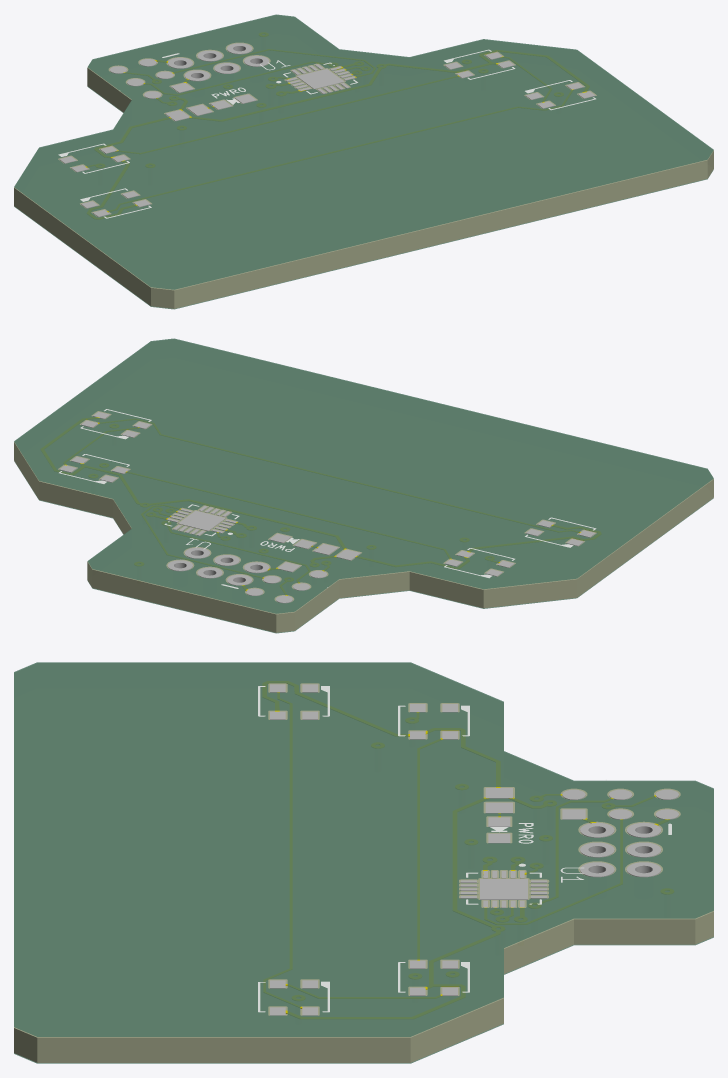
The model's file is dc29-makeithackin-badge.glb.
3 views of the same model, one above another, from view 1: azimuth 30°, elevation 25°; view 2: azimuth 150°, elevation 25°; view 3: azimuth 270°, elevation 25° (orthographic). The views are drawn at different scales.
Visible parts, largest first — view 1: =>[0:1:1:9], =>[0:1:1:7], =>[0:1:1:2], =>[0:1:1:5]; view 2: =>[0:1:1:9], =>[0:1:1:7], =>[0:1:1:2], =>[0:1:1:5]; view 3: =>[0:1:1:9], =>[0:1:1:7], =>[0:1:1:2], =>[0:1:1:5].
Boxes of the visible parts, x1,y1,x2,y2 form: =>[0:1:1:9]: [14, 15, 713, 308]; =>[0:1:1:7]: [14, 14, 713, 309]; =>[0:1:1:2]: [59, 33, 595, 218]; =>[0:1:1:5]: [58, 49, 595, 218]; =>[0:1:1:9]: [14, 339, 713, 632]; =>[0:1:1:7]: [14, 338, 713, 633]; =>[0:1:1:2]: [41, 412, 600, 603]; =>[0:1:1:5]: [32, 409, 596, 607]; =>[0:1:1:9]: [14, 663, 713, 1062]; =>[0:1:1:7]: [14, 662, 713, 1063]; =>[0:1:1:2]: [263, 681, 678, 1018]; =>[0:1:1:5]: [258, 686, 671, 1035].
Size of the model in its own units: 0.0483 by 0.00166 by 0.0381.
4 materials, 4 textured.
